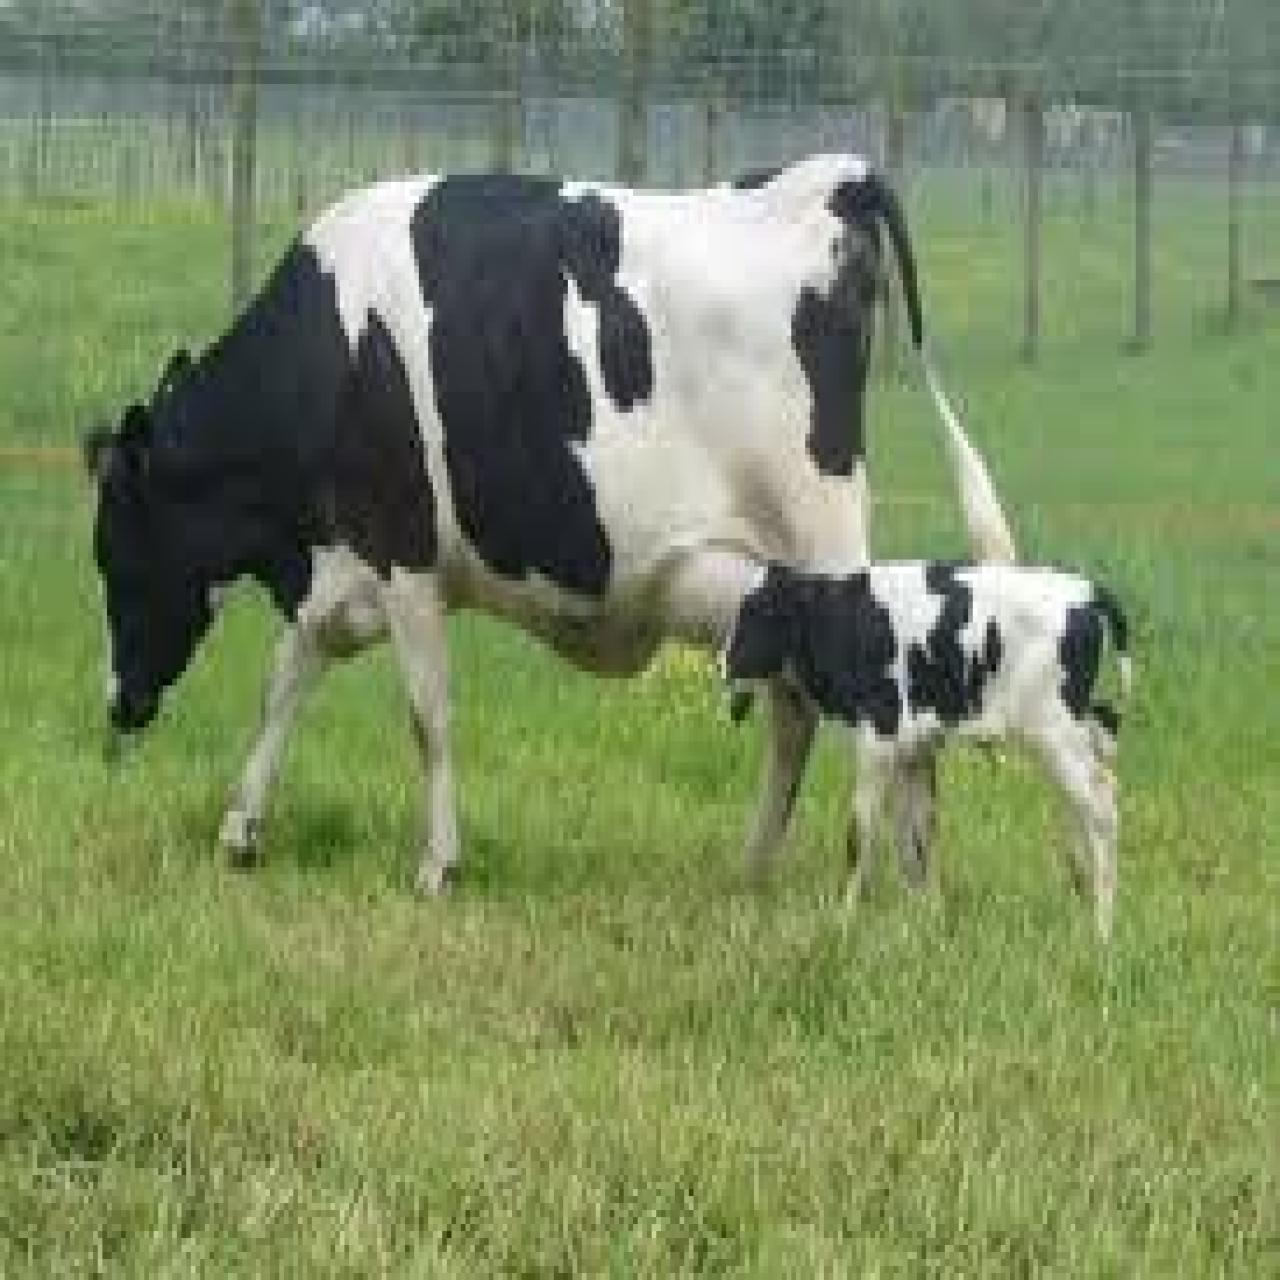cow: (95, 164, 892, 892), (721, 567, 1122, 952)
